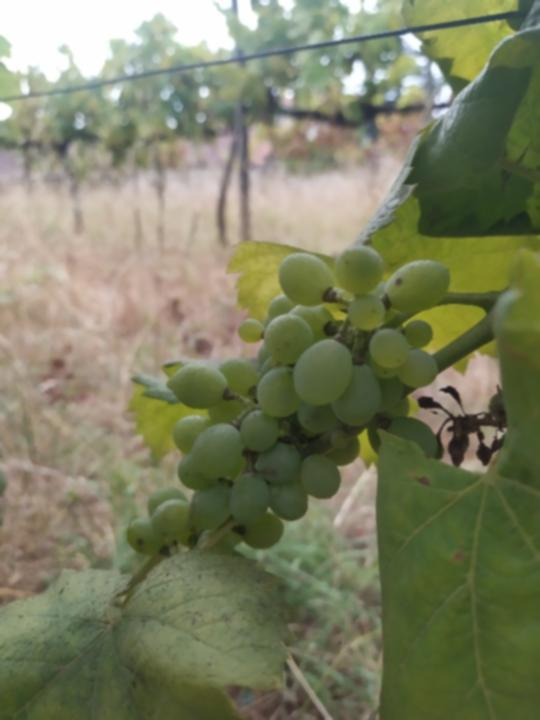grape: (124, 242, 455, 560)
